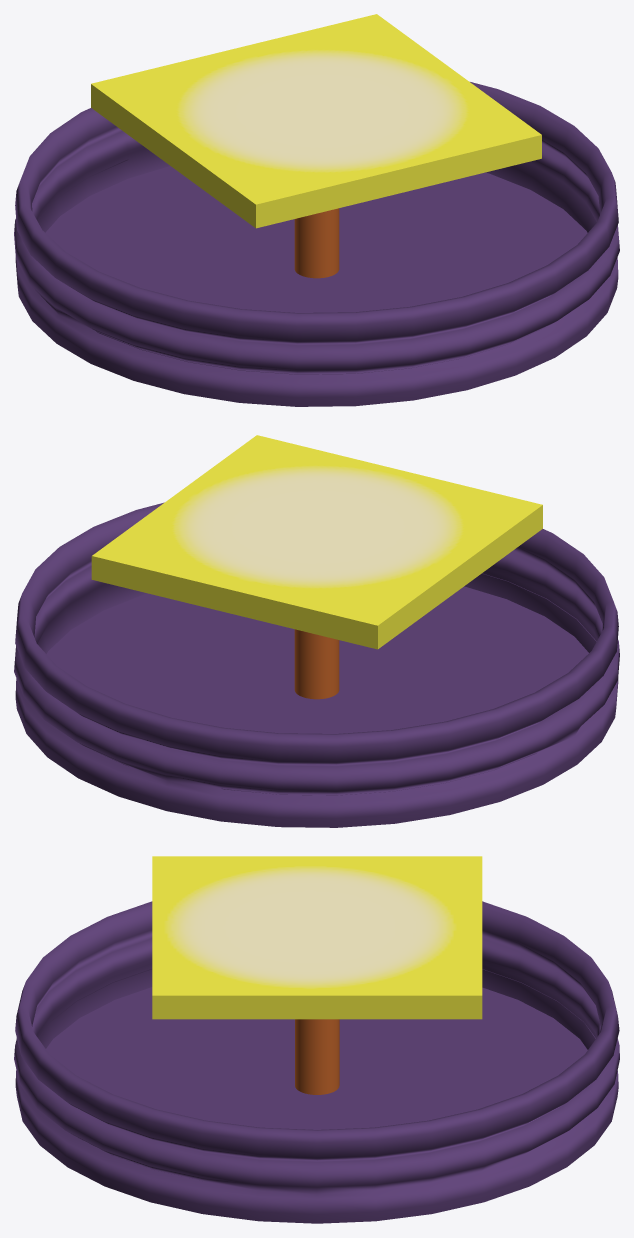
The model's file is stage cleaning.fbx.
3 renders of one model, top to bottom at view 1: azimuth 30°, elevation 25°; view 2: azimuth 150°, elevation 25°; view 3: azimuth 270°, elevation 25°, orthographic.
Parts seen in each view (by area): view 1: Cylinder.003, Cube.002; view 2: Cylinder.003, Cube.002; view 3: Cylinder.003, Cube.002.
Part boxes in pixels (bbox=[...]): Cylinder.003: bbox=[14, 82, 619, 406]; Cube.002: bbox=[91, 14, 541, 278]; Cylinder.003: bbox=[14, 502, 619, 827]; Cube.002: bbox=[91, 435, 542, 699]; Cylinder.003: bbox=[14, 901, 619, 1223]; Cube.002: bbox=[152, 856, 482, 1094].
Size of the model in its own units: 6389 by 2084 by 6394.
2 materials, 1 textured.
